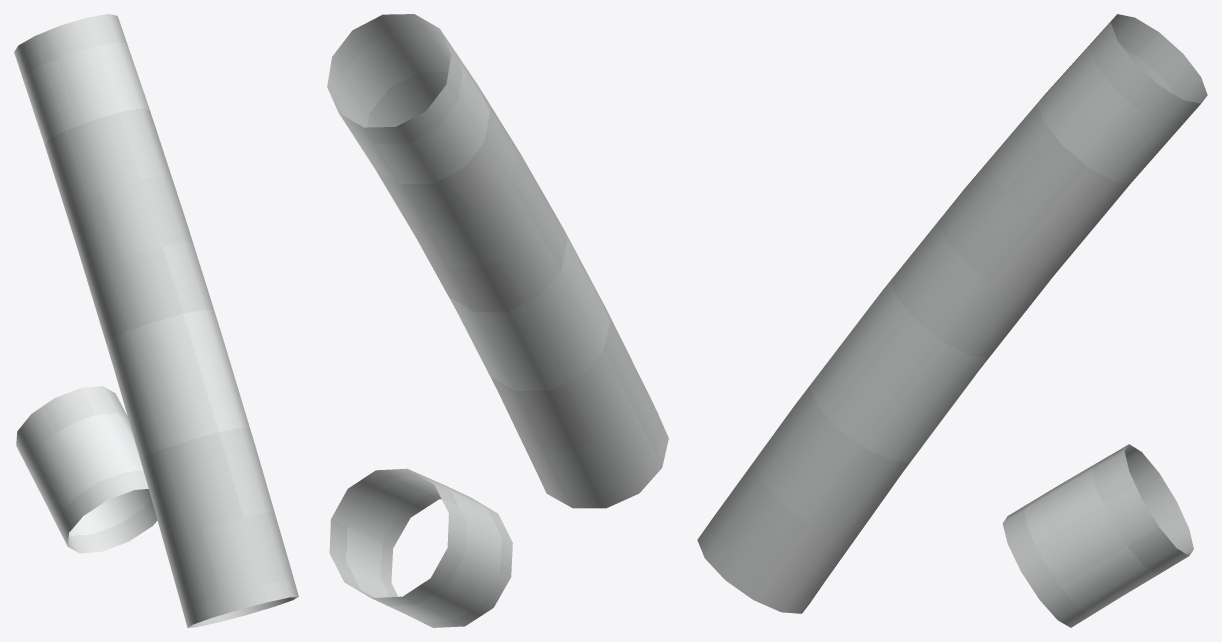
The model's file is luminairearm_vannuystriple_c1.obj.
The picture shows the model from 3 angles, left to right: view 1: azimuth 30°, elevation 25°; view 2: azimuth 150°, elevation 25°; view 3: azimuth 270°, elevation 25°; orthographic projection. The views are drawn at different scales.
Parts seen in each view (by area): view 1: luminairearm_vannuystriple_c1; view 2: luminairearm_vannuystriple_c1; view 3: luminairearm_vannuystriple_c1.
Boxes of the visible parts, <box> form: luminairearm_vannuystriple_c1: <box>14,14,298,627</box>; luminairearm_vannuystriple_c1: <box>327,14,668,627</box>; luminairearm_vannuystriple_c1: <box>697,14,1207,627</box>.
Size of the model in its own units: 0.2064 by 1.03 by 0.7942.
